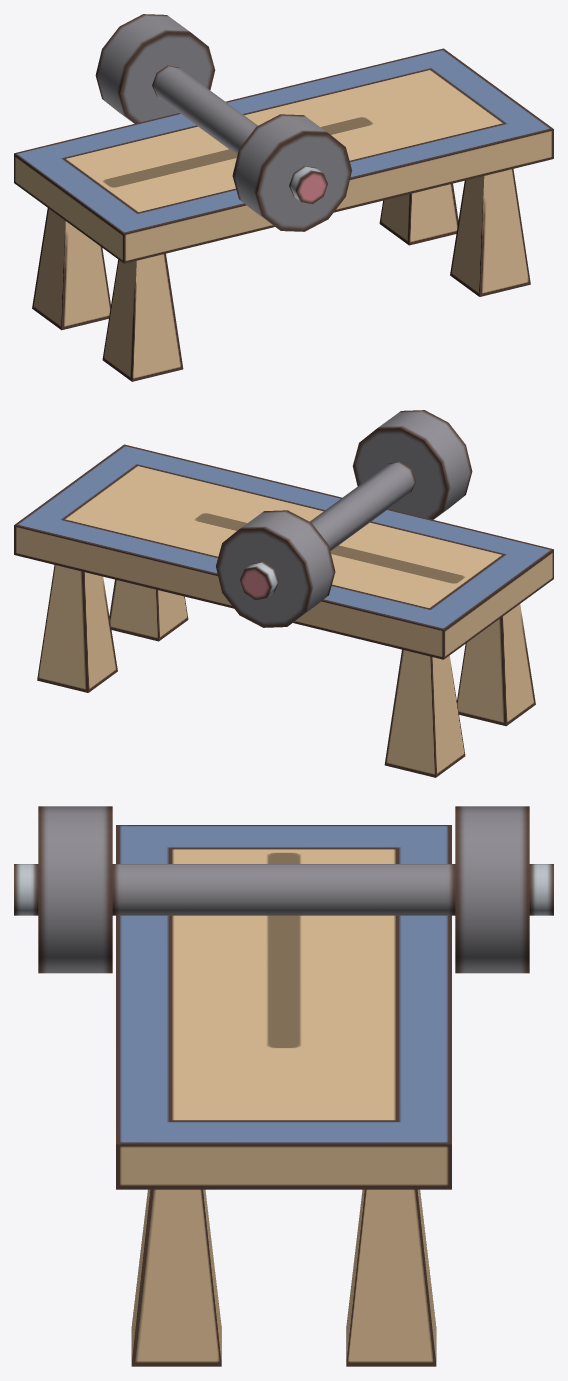
File: Saw Table.fbx
3 renders of one model, top to bottom at view 1: azimuth 30°, elevation 25°; view 2: azimuth 150°, elevation 25°; view 3: azimuth 270°, elevation 25°, orthographic. The views are drawn at different scales.
Visible parts, largest first — view 1: Saw_Table; view 2: Saw_Table; view 3: Saw_Table.
Part boxes in pixels (x1,y1,x2,y2): Saw_Table: (14,14,553,381); Saw_Table: (14,410,553,777); Saw_Table: (14,806,553,1366).
Bounding box in the file's own units: 148 × 78.26 × 106.
1 material, 1 textured.
